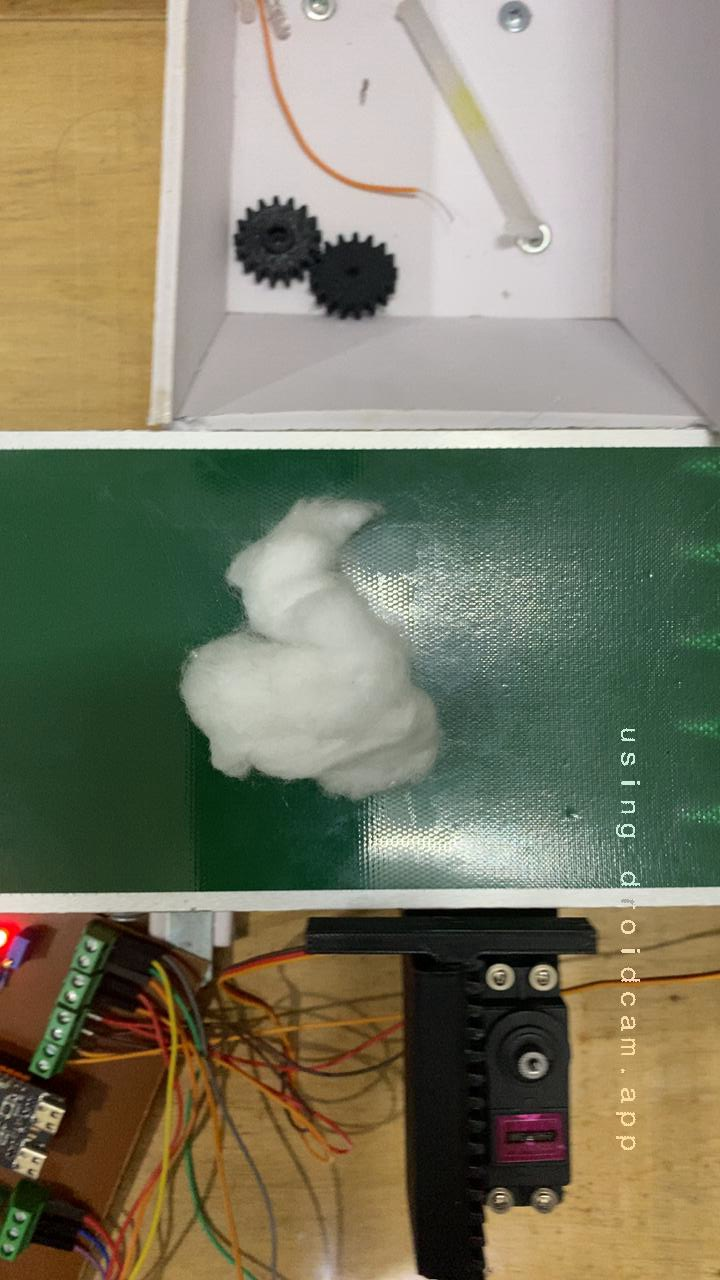cotton: (155, 469, 465, 814)
